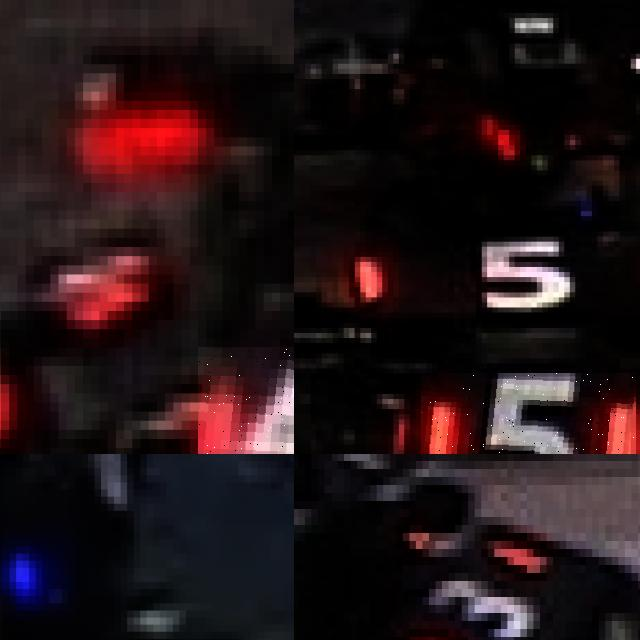R3: (409, 517, 546, 640)
R4: (198, 347, 294, 454)
R5: (349, 236, 640, 327), (421, 373, 636, 454)
